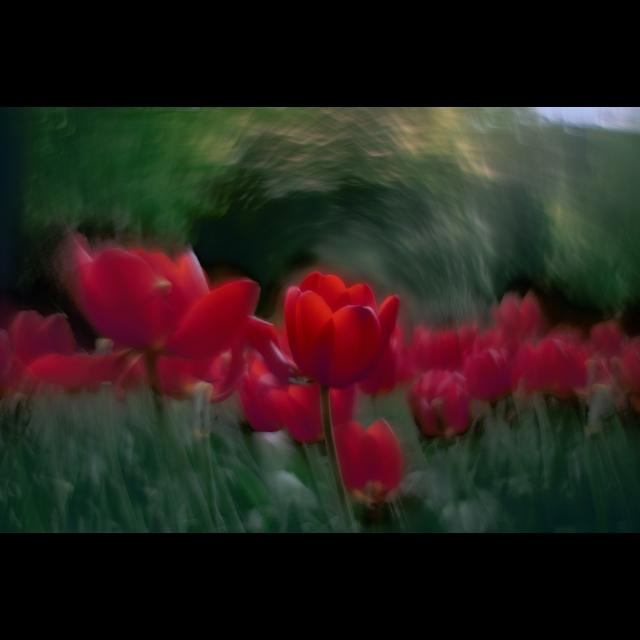Flower: (1, 233, 640, 503), (276, 270, 400, 396)
